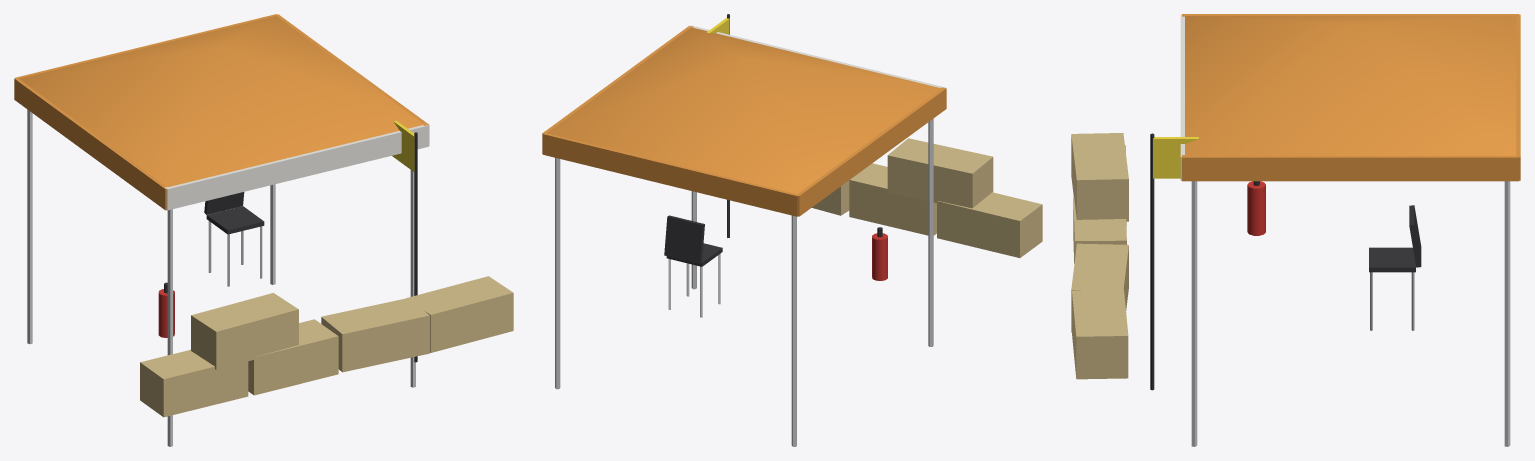
Rendered from hill-marshal.glb.
3 renders of one model, left to right at view 1: azimuth 30°, elevation 25°; view 2: azimuth 150°, elevation 25°; view 3: azimuth 270°, elevation 25°, orthographic. The views are drawn at different scales.
Visible parts, largest first — view 1: MarshalPost; view 2: MarshalPost; view 3: MarshalPost.
Boxes of the visible parts, x1,y1,x2,y2 form: MarshalPost: (14,14,513,446); MarshalPost: (542,14,1042,446); MarshalPost: (1071,14,1520,446).
Size of the model in its own units: 4.34 by 3.75 by 4.31.
